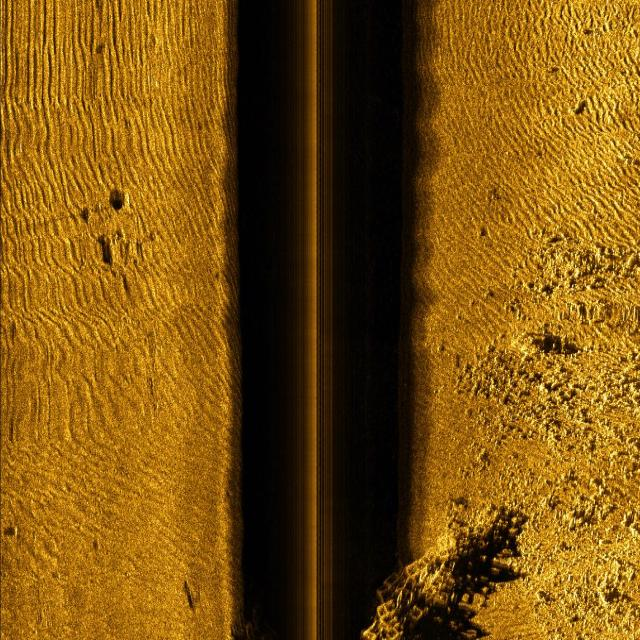artificial reef: (369, 522, 498, 640), (240, 597, 277, 640)
